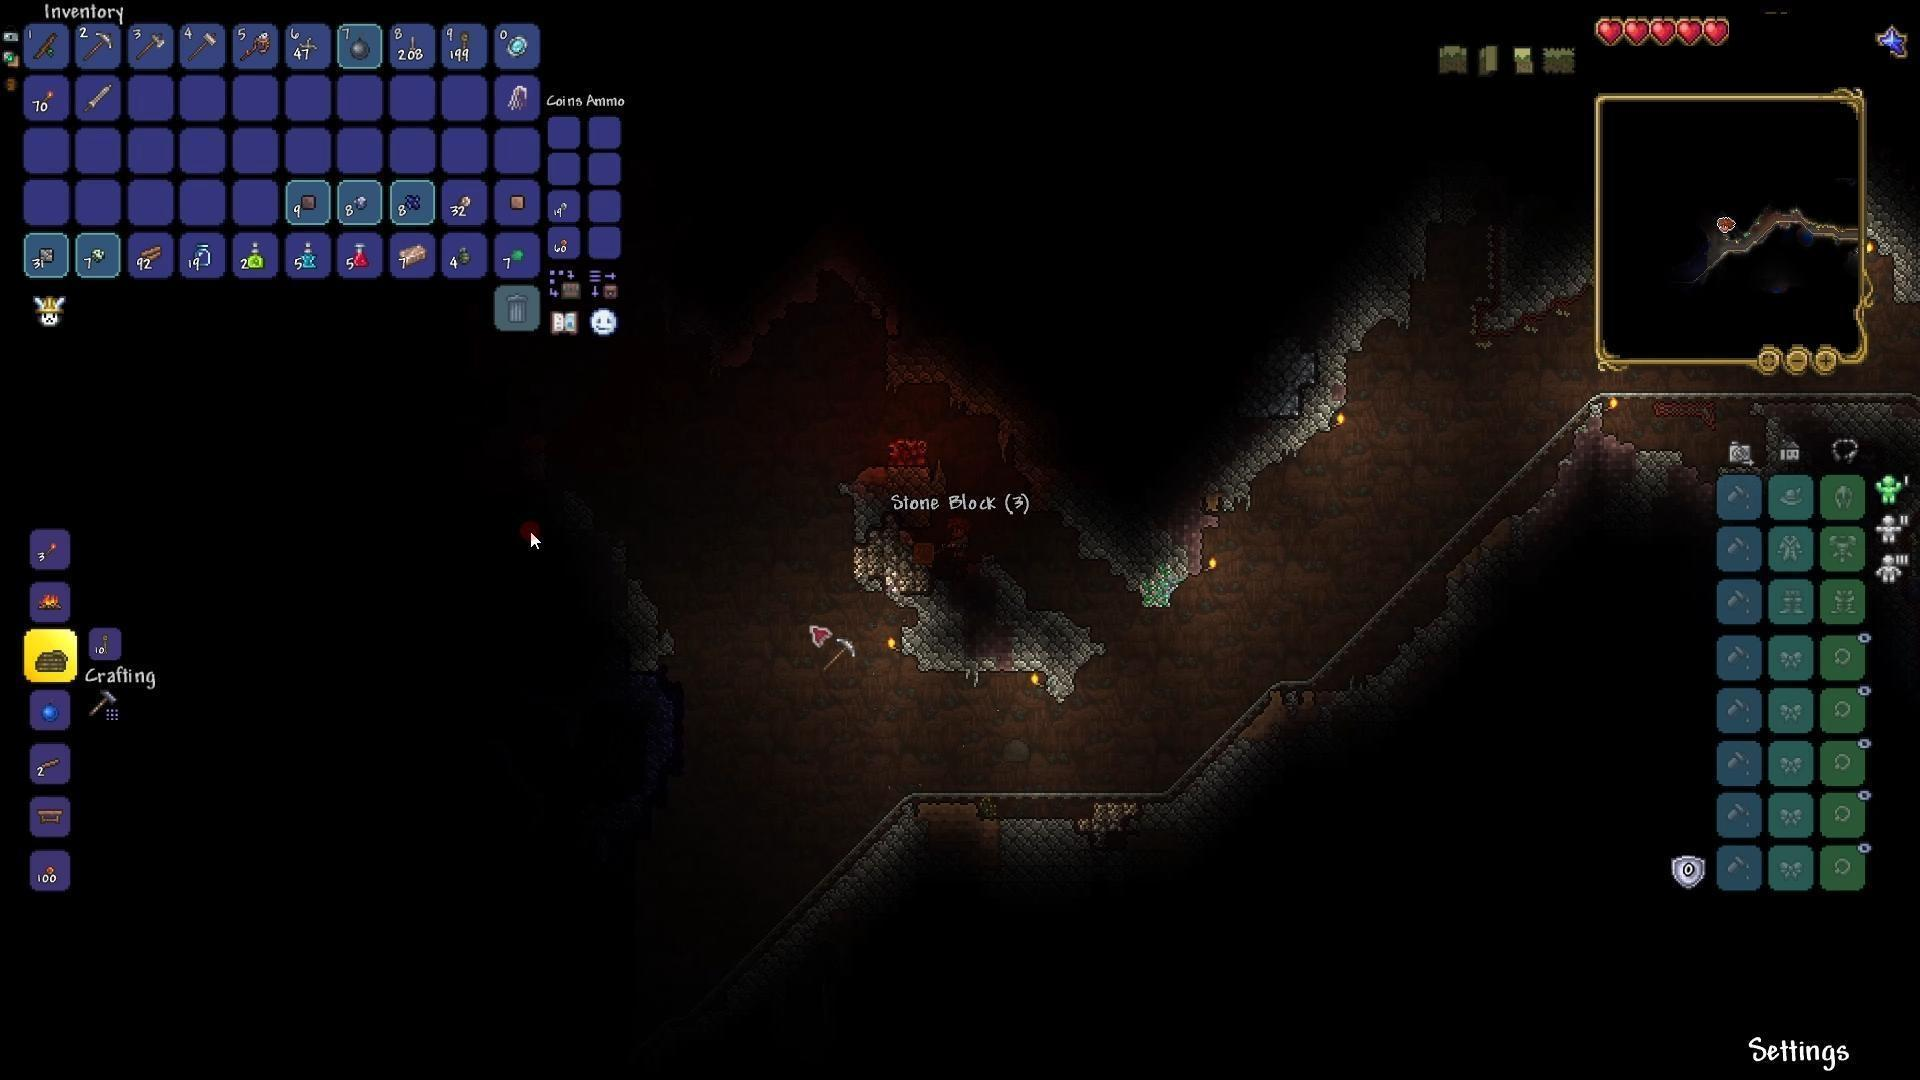heart: (1702, 17, 1733, 51), (1593, 16, 1626, 46), (1676, 15, 1704, 50), (1650, 16, 1676, 49), (1625, 15, 1651, 44)
stone: (889, 613, 1109, 702), (1319, 280, 1427, 398), (1217, 410, 1325, 508), (1175, 735, 1269, 847), (1873, 214, 1920, 331), (1001, 807, 1081, 873), (852, 810, 905, 907), (1622, 430, 1688, 500)
